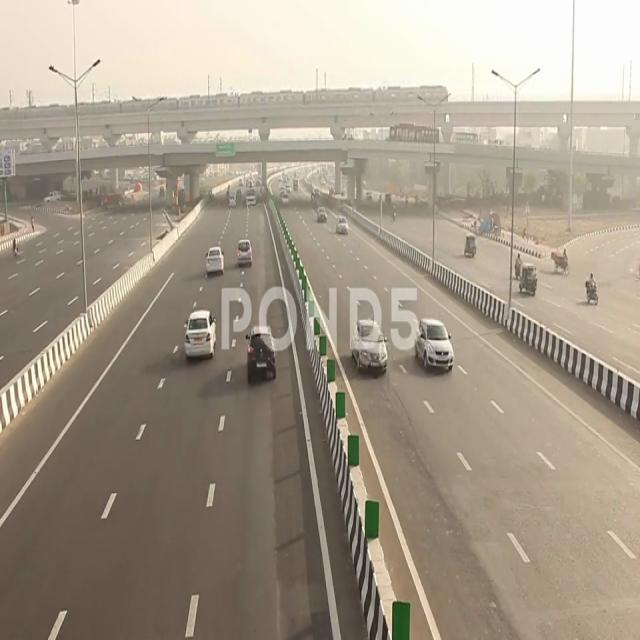car: (416, 315, 454, 386), (350, 314, 390, 379), (245, 321, 278, 390), (182, 308, 216, 362), (202, 237, 227, 283), (233, 236, 254, 268)
motorbike: (585, 270, 600, 315)
rikshaw: (520, 262, 538, 300)
